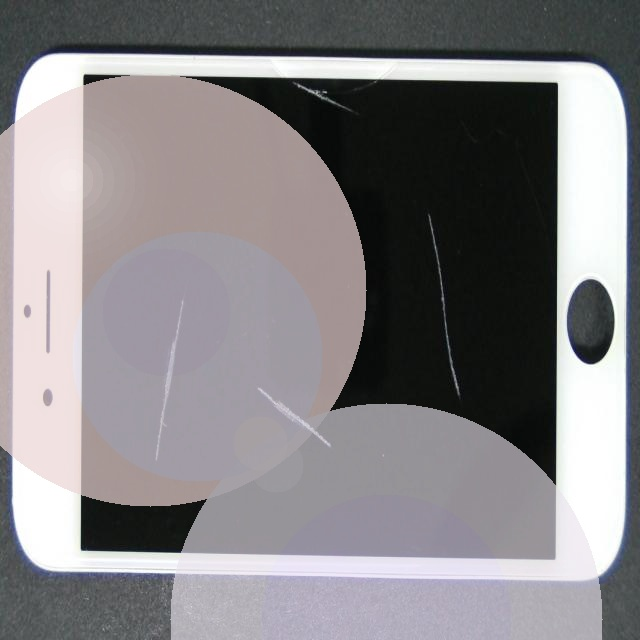scratch: (136, 153, 384, 566), (261, 288, 640, 482), (92, 21, 474, 149)
